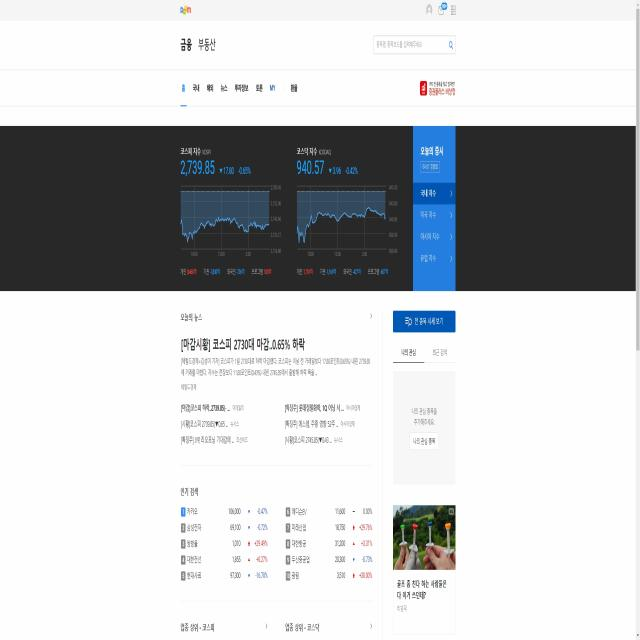menu-bar: (424, 1, 458, 19)
search: (372, 32, 456, 58)
side-panel: (385, 302, 459, 639)
tab-bar: (177, 75, 301, 106), (176, 32, 223, 59)
